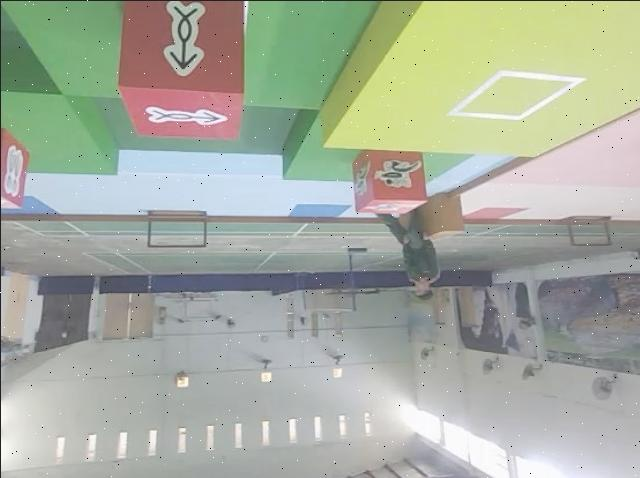R1: (354, 152, 426, 210)
R2 Fake: (0, 123, 27, 214)
R2 Real: (118, 0, 248, 139)
